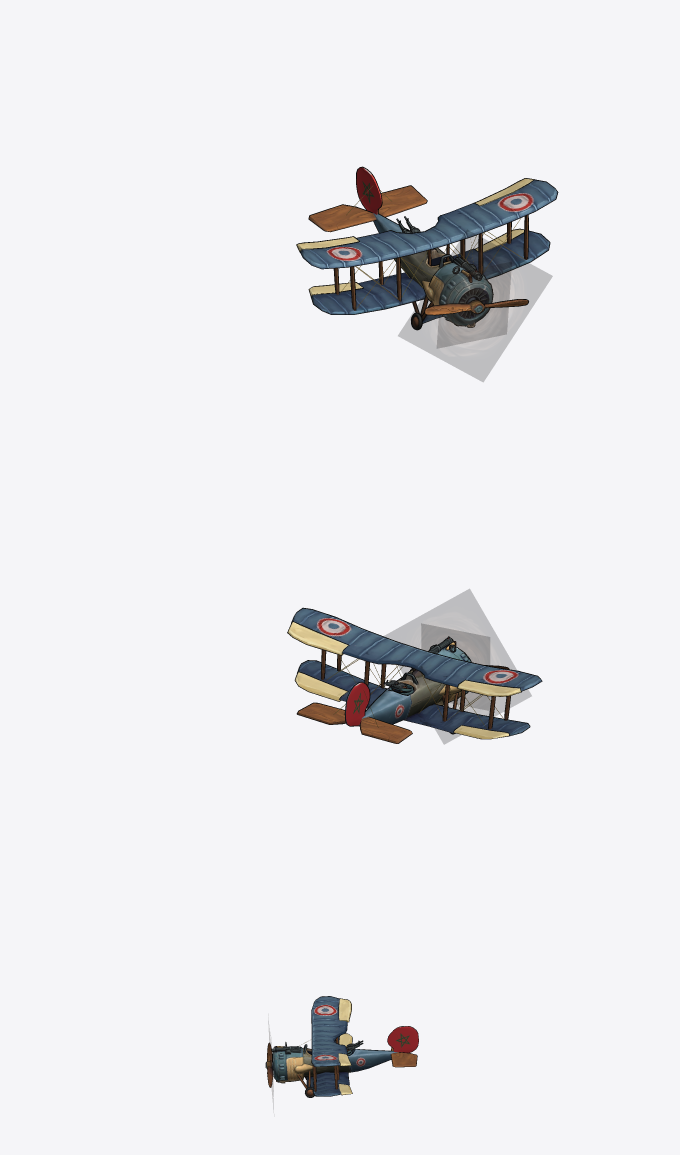
The model's file is plane-DtNt4GZZ.glb.
3 renders of one model, top to bottom at view 1: azimuth 30°, elevation 25°; view 2: azimuth 150°, elevation 25°; view 3: azimuth 270°, elevation 25°, orthographic. The views are drawn at different scales.
Visible parts, largest first — view 1: pCube1, polySurface182, polySurface243, pCube4, polySurface212, polySurface308, polySurface200, polySurface292, polySurface201, polySurface409; view 2: pCube1, polySurface182, polySurface243, polySurface212, polySurface308, pCube4, polySurface161, polySurface200, polySurface201; view 3: polySurface182, polySurface212, polySurface308, polySurface201, polySurface243, polySurface292.
Boxes of the visible parts, <box> form: pCube1: <box>398,230,552,381</box>; polySurface182: <box>300,180,557,268</box>; polySurface243: <box>311,231,549,314</box>; pCube4: <box>437,262,511,347</box>; polySurface212: <box>373,213,492,325</box>; polySurface308: <box>308,166,550,330</box>; polySurface200: <box>309,205,376,231</box>; polySurface292: <box>378,186,426,216</box>; polySurface201: <box>356,167,381,214</box>; polySurface409: <box>300,179,558,269</box>; pCube1: <box>384,589,531,744</box>; polySurface182: <box>292,608,541,690</box>; polySurface243: <box>298,661,529,735</box>; polySurface212: <box>361,646,470,723</box>; polySurface308: <box>296,636,530,743</box>; pCube4: <box>421,623,490,710</box>; polySurface161: <box>288,622,348,655</box>; polySurface200: <box>360,717,411,743</box>; polySurface201: <box>345,682,369,725</box>; polySurface182: <box>311,996,347,1066</box>; polySurface212: <box>273,1047,397,1081</box>; polySurface308: <box>271,1026,418,1097</box>; polySurface201: <box>387,1026,418,1052</box>; polySurface243: <box>313,1037,349,1096</box>; polySurface292: <box>391,1052,416,1066</box>.
Size of the model in its own units: 2.02 by 1.19 by 4.93.
5 materials, 3 textured.
